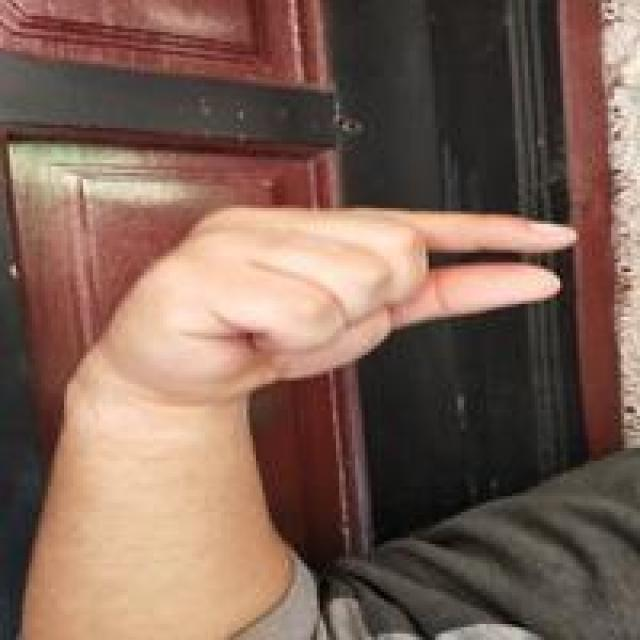G: (107, 195, 581, 416)
